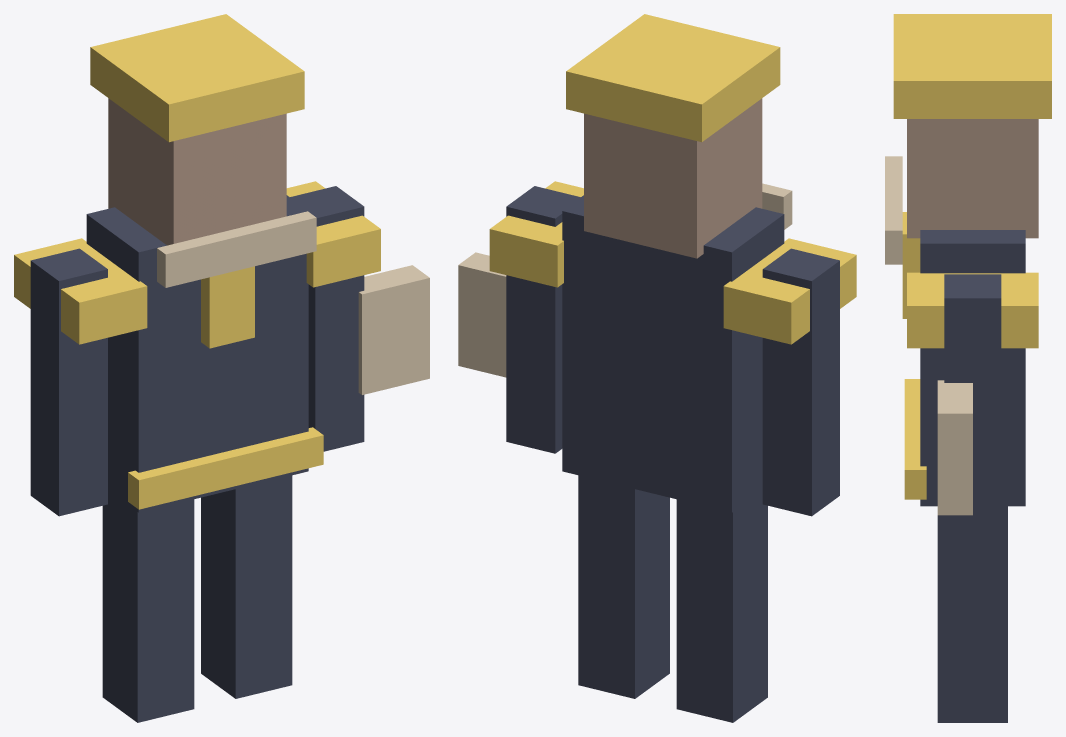
The model's file is 03_makoa_echohand_herald_from_same_day.glb.
3 views of the same model, side by side, from view 1: azimuth 30°, elevation 25°; view 2: azimuth 150°, elevation 25°; view 3: azimuth 270°, elevation 25° (orthographic).
Visible parts, largest first — view 1: Makoa Echohand, Herald from Same-Day; view 2: Makoa Echohand, Herald from Same-Day; view 3: Makoa Echohand, Herald from Same-Day.
Part boxes in pixels (bbox=[...]): Makoa Echohand, Herald from Same-Day: bbox=[14, 14, 429, 722]; Makoa Echohand, Herald from Same-Day: bbox=[458, 14, 856, 722]; Makoa Echohand, Herald from Same-Day: bbox=[885, 14, 1051, 722].
Bounding box in the file's own units: 0.9684 × 1.59 × 0.3774.
